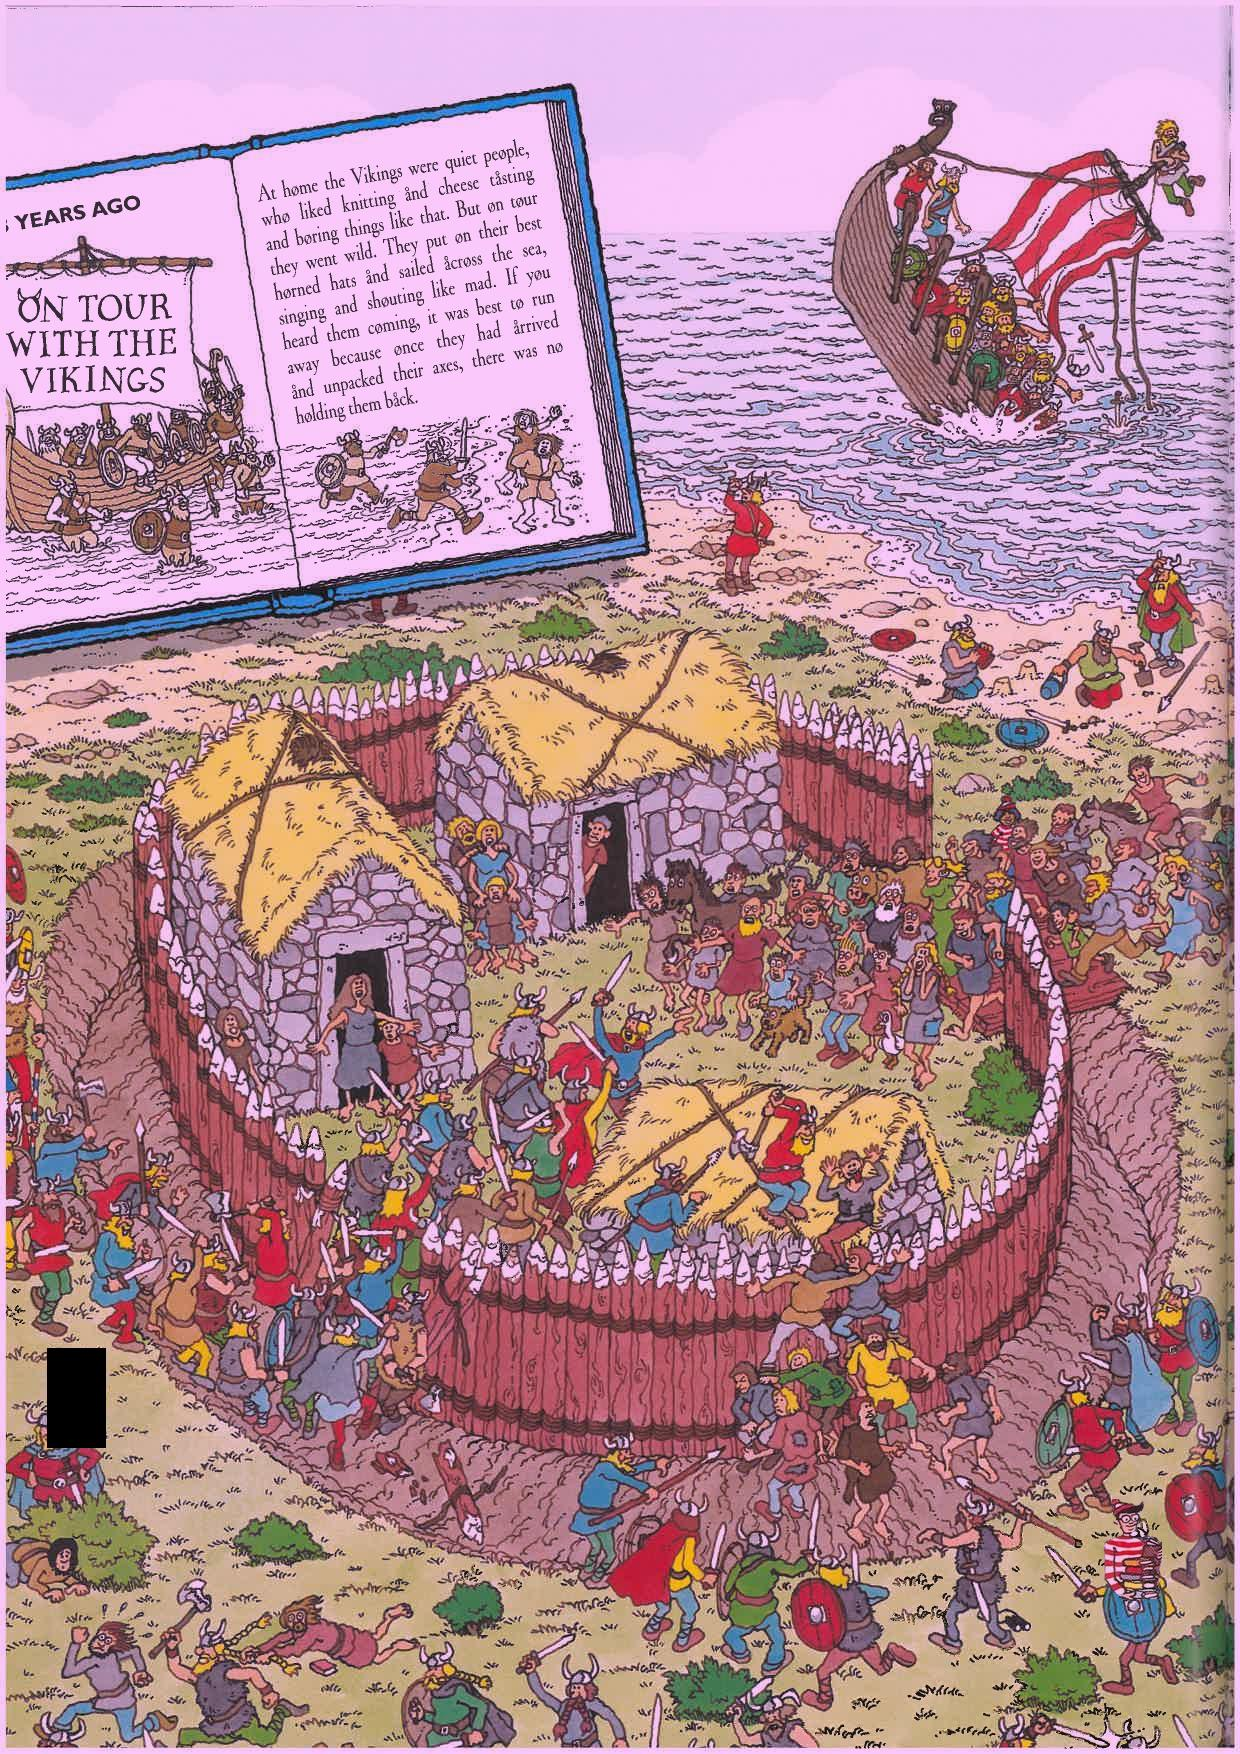waldos: (1103, 1499, 1162, 1600)
